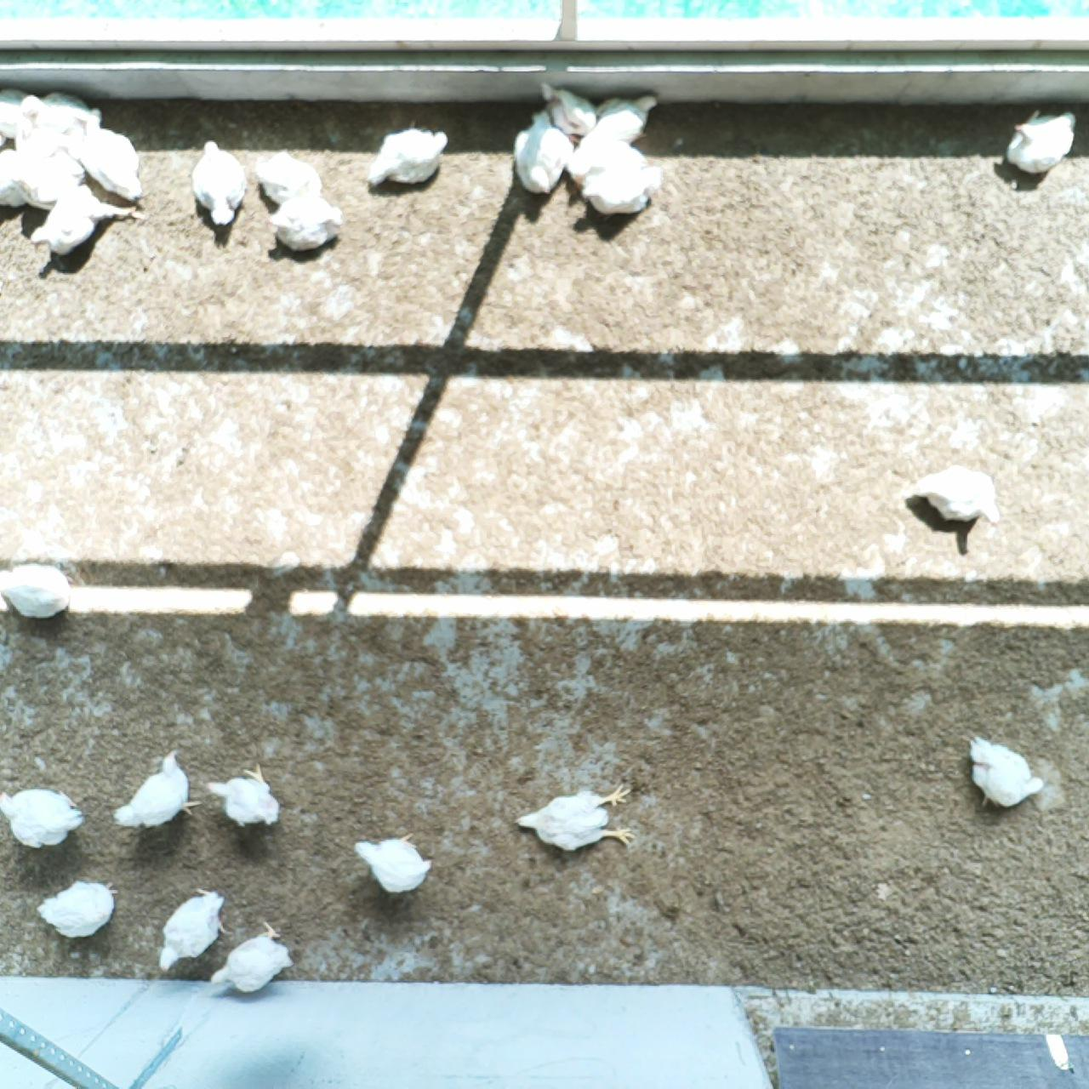chicken: (509, 781, 642, 859), (895, 456, 1008, 542), (28, 181, 145, 260), (111, 746, 208, 839), (958, 731, 1047, 814), (154, 884, 233, 977), (76, 106, 150, 204), (208, 916, 294, 1000), (365, 115, 452, 193), (187, 136, 253, 232), (34, 875, 124, 945), (510, 107, 578, 199), (0, 784, 88, 854), (351, 827, 436, 899), (564, 125, 652, 191), (204, 761, 285, 832), (1001, 108, 1080, 179), (579, 159, 665, 218), (264, 194, 346, 255), (0, 560, 76, 623), (17, 86, 89, 151), (8, 152, 88, 209), (535, 78, 600, 144), (254, 150, 325, 207), (587, 93, 662, 145), (0, 86, 35, 141), (0, 145, 30, 208)
